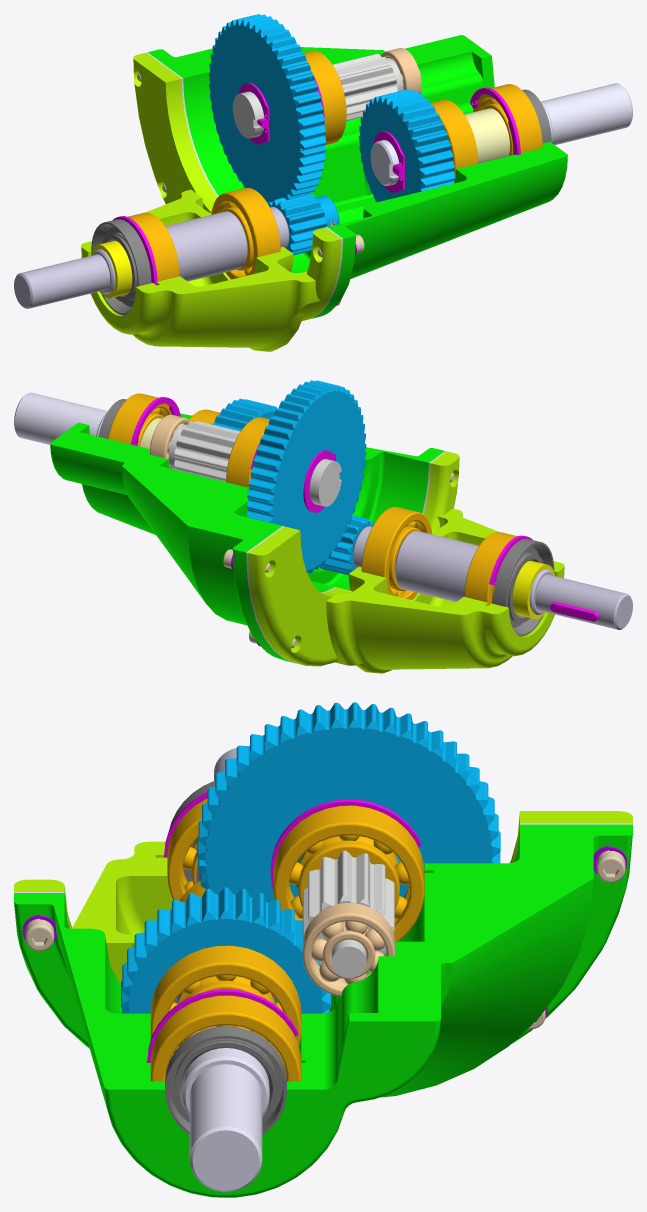
File: Getriebe.glb
3 renders of one model, top to bottom at view 1: azimuth 30°, elevation 25°; view 2: azimuth 150°, elevation 25°; view 3: azimuth 270°, elevation 25°, orthographic. The views are drawn at different scales.
Parts seen in each view (by area): view 1: 1 Gehaeuse, 2 Lagerdeckel, 7 Stirnrad, Rillenkugellager 6205 (×5), 5 Antriebswelle, 8 Stirnrad, Abtriebswelle, 4 Ritzelwelle, 6 Ritzel, 22RWDR 30 50, Distanzbuchse 9, Sicherungsring (×2) (+5 smaller); view 2: 2 Lagerdeckel, 1 Gehaeuse, 7 Stirnrad, Rillenkugellager 6205 (×4), 5 Antriebswelle, 4 Ritzelwelle, Abtriebswelle, 22RWDR 30 50, 6 Ritzel, 8 Stirnrad, 10 Buchse, 13 Rillenkugellager 6201 12mm (+4 smaller); view 3: 1 Gehaeuse, 7 Stirnrad, Rillenkugellager 6205 (×4), 8 Stirnrad, Abtriebswelle, 2 Lagerdeckel, 4 Ritzelwelle, 13 Rillenkugellager 6201 12mm, 21 RWDR 30, Sicherungsring (×2), 8 Zylinderschraube (×2).
Boxes of the visible parts, bbox=[...] form: 1 Gehaeuse: bbox=[148, 35, 567, 318]; 2 Lagerdeckel: bbox=[81, 52, 341, 351]; 7 Stirnrad: bbox=[208, 14, 326, 204]; Rillenkugellager 6205 (×5): bbox=[127, 50, 542, 281]; 5 Antriebswelle: bbox=[14, 207, 289, 308]; 8 Stirnrad: bbox=[358, 89, 455, 201]; Abtriebswelle: bbox=[370, 83, 632, 185]; 4 Ritzelwelle: bbox=[232, 53, 421, 138]; 6 Ritzel: bbox=[268, 194, 339, 255]; 22RWDR 30 50: bbox=[91, 219, 151, 315]; Distanzbuchse 9: bbox=[464, 108, 509, 163]; Sicherungsring (×2): bbox=[113, 87, 520, 285]; 2 Lagerdeckel: bbox=[248, 451, 564, 673]; 1 Gehaeuse: bbox=[50, 413, 444, 663]; 7 Stirnrad: bbox=[246, 380, 366, 573]; Rillenkugellager 6205 (×4): bbox=[108, 393, 516, 605]; 5 Antriebswelle: bbox=[352, 526, 632, 629]; 4 Ritzelwelle: bbox=[150, 421, 341, 506]; Abtriebswelle: bbox=[14, 392, 107, 444]; 22RWDR 30 50: bbox=[493, 538, 554, 636]; 6 Ritzel: bbox=[319, 515, 373, 575]; 8 Stirnrad: bbox=[211, 398, 276, 431]; 10 Buchse: bbox=[512, 560, 554, 619]; 13 Rillenkugellager 6201 12mm: bbox=[150, 414, 190, 469]; 1 Gehaeuse: bbox=[14, 824, 632, 1197]; 7 Stirnrad: bbox=[197, 702, 500, 902]; Rillenkugellager 6205 (×4): bbox=[150, 798, 424, 1081]; 8 Stirnrad: bbox=[121, 887, 331, 1013]; Abtriebswelle: bbox=[182, 1048, 269, 1192]; 2 Lagerdeckel: bbox=[14, 811, 632, 985]; 4 Ritzelwelle: bbox=[302, 850, 394, 978]; 13 Rillenkugellager 6201 12mm: bbox=[302, 903, 395, 996]; 21 RWDR 30: bbox=[165, 1026, 286, 1134]; Sicherungsring (×2): bbox=[147, 799, 421, 1062]; 8 Zylinderschraube (×2): bbox=[25, 850, 625, 951].
Size of the model in its own units: 0.3746 by 0.1695 by 0.2133.
